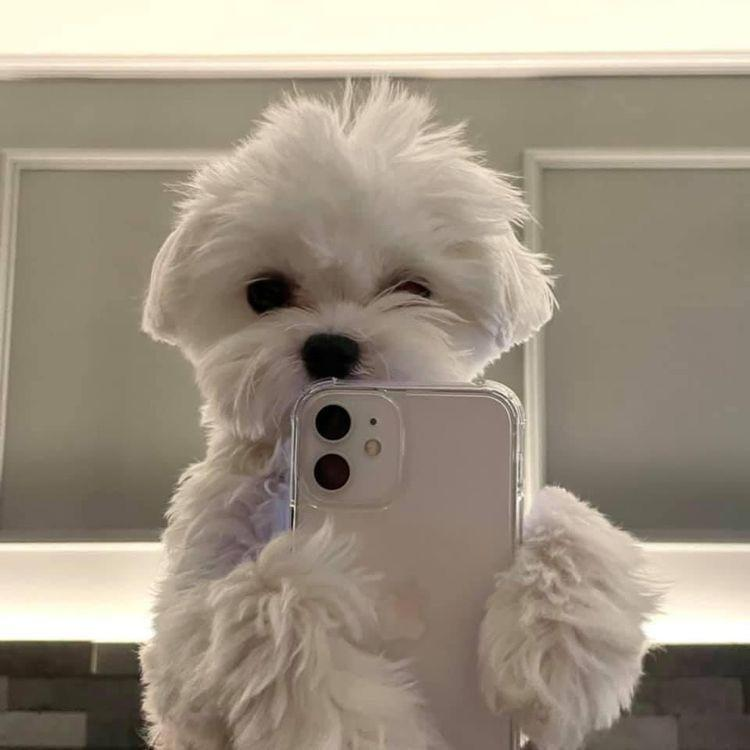puppy-dog: (136, 76, 666, 750)
